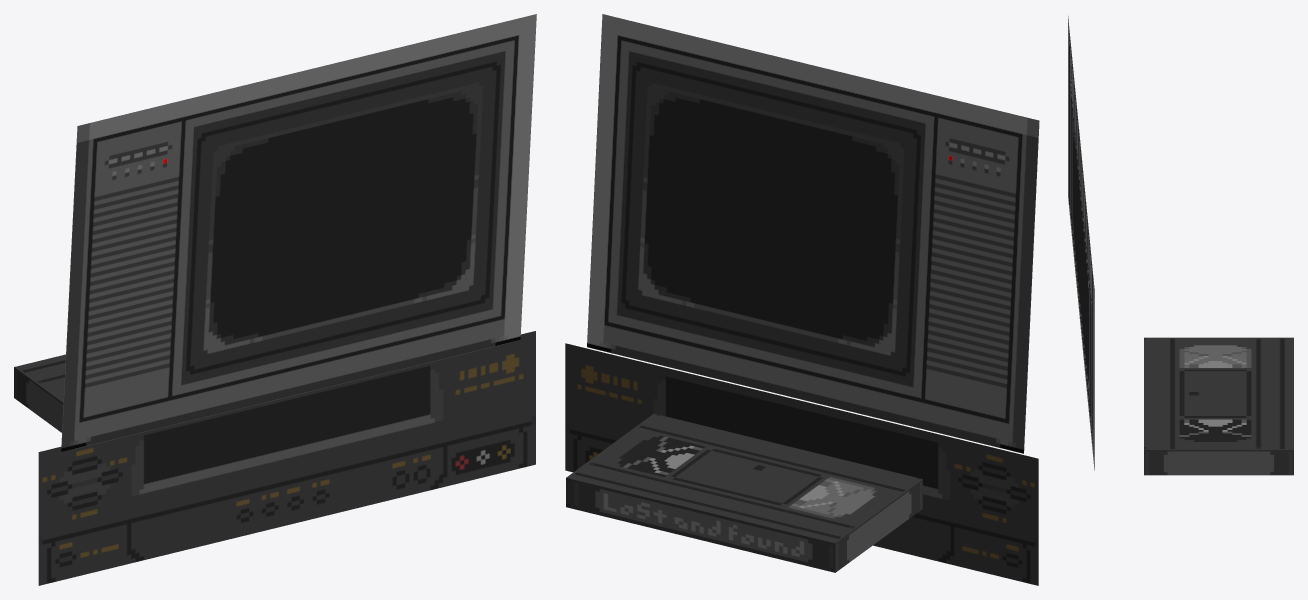
3 views of the same model, side by side, from view 1: azimuth 30°, elevation 25°; view 2: azimuth 150°, elevation 25°; view 3: azimuth 270°, elevation 25° (orthographic). The views are drawn at different scales.
Visible parts, largest first — view 1: TV, VCR, Tape; view 2: TV, VCR, Tape; view 3: Tape, TV.
Boxes of the visible parts, left/top/right/bottom form: TV: left=61, top=14, right=536, bottom=452; VCR: left=38, top=331, right=535, bottom=585; Tape: left=14, top=354, right=65, bottom=432; TV: left=587, top=14, right=1039, bottom=453; VCR: left=565, top=343, right=1038, bottom=585; Tape: left=566, top=413, right=922, bottom=572; Tape: left=1144, top=337, right=1293, bottom=475; TV: left=1068, top=16, right=1094, bottom=470.
Bounding box in the file's own units: 354 × 320 × 171.
3 materials, 3 textured.
